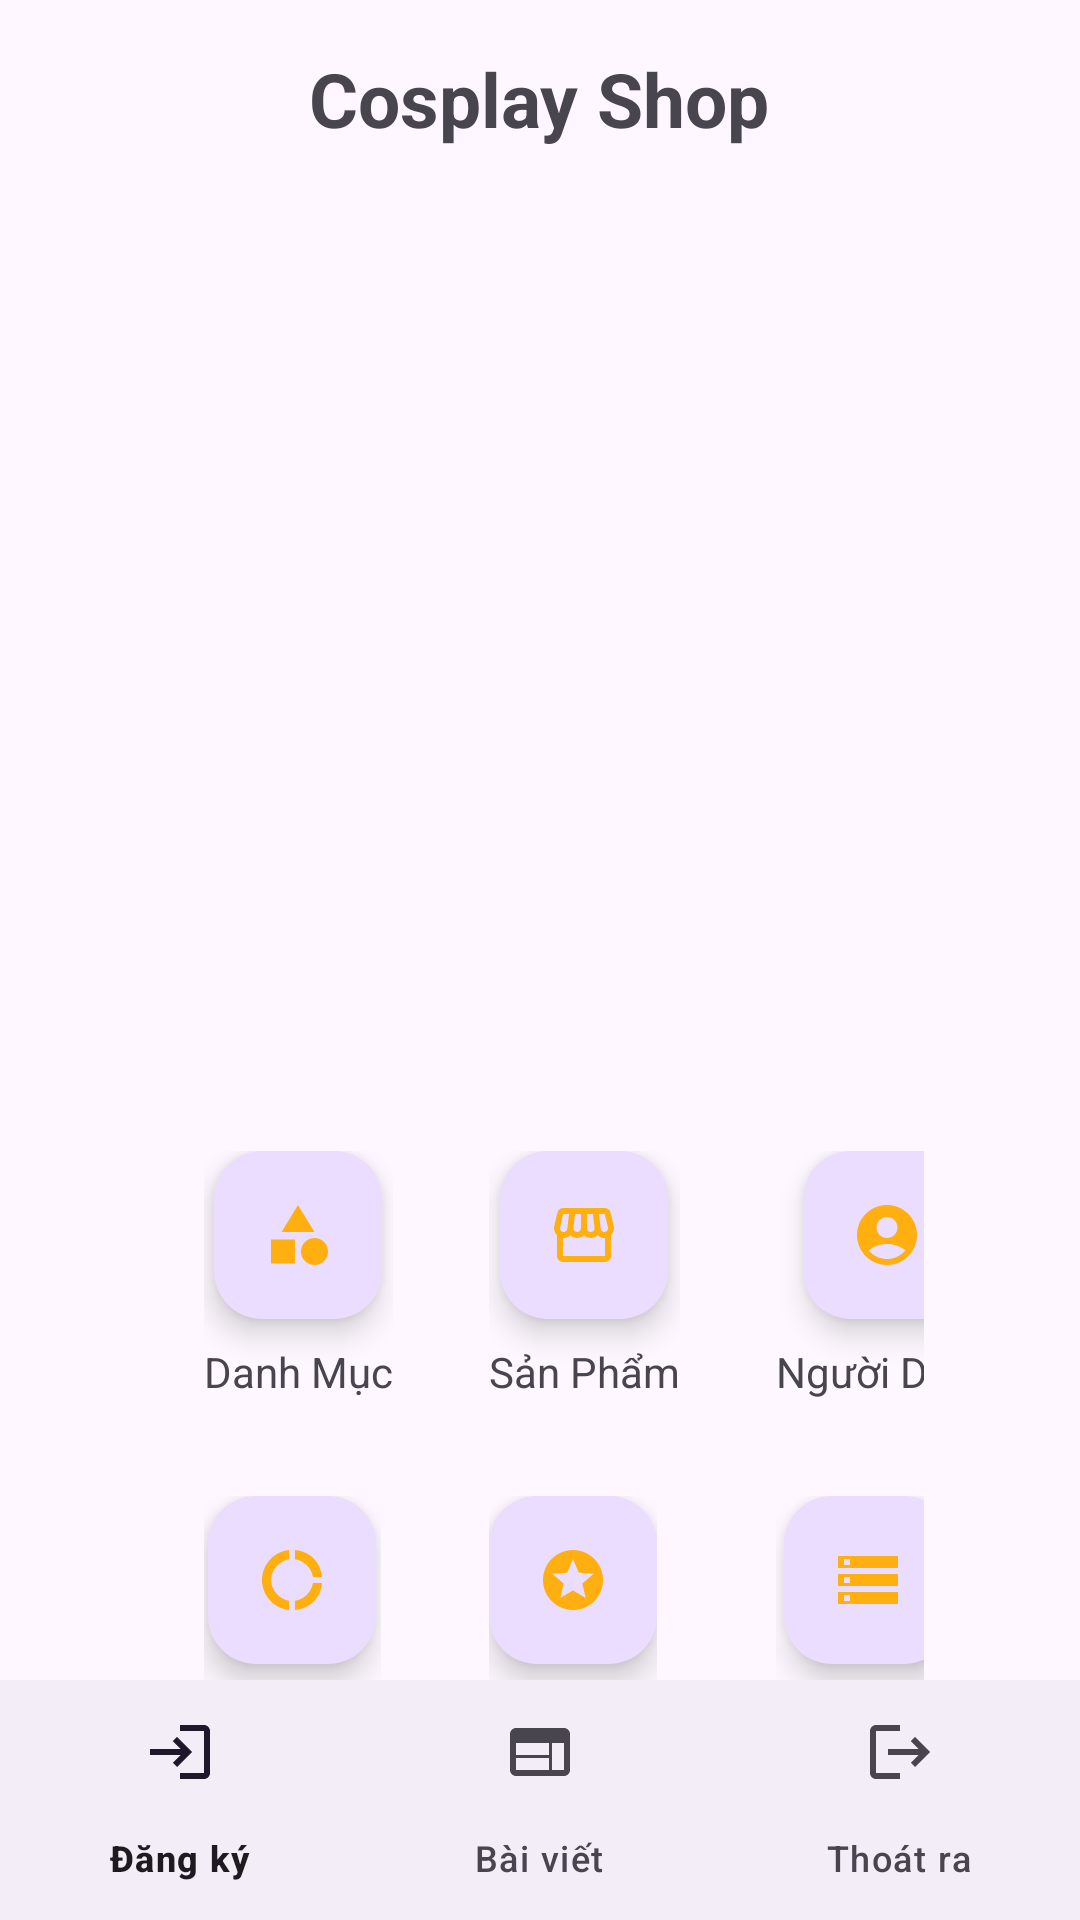

Icon bounding boxes for this 1080×1920 phone screenshot, format rect(x1, y1, x2, y2):
inventory management: rect(784, 1496, 924, 1664)
stars: rect(489, 1496, 657, 1664)
statistics: rect(208, 1496, 376, 1664)
